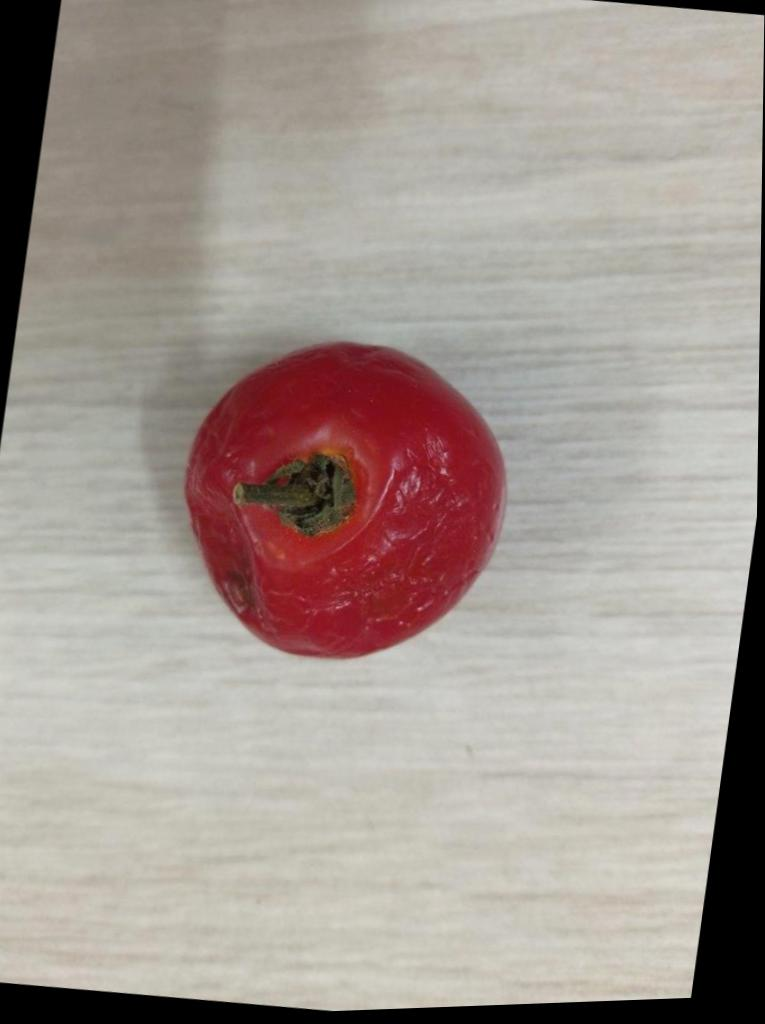bruise_discoloration: (188, 479, 274, 632)
rot_mold_decay: (224, 570, 254, 610)
tomato: (185, 345, 504, 658)
